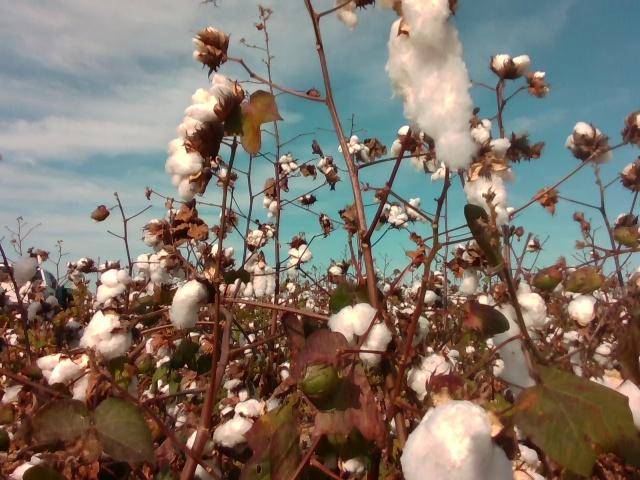cotton_ready: (387, 0, 477, 170), (401, 400, 514, 480), (486, 282, 546, 390), (467, 122, 513, 229), (329, 304, 391, 367), (176, 87, 228, 153), (37, 352, 94, 402), (167, 137, 210, 200), (79, 310, 131, 358), (211, 400, 264, 446), (564, 121, 615, 166), (405, 353, 457, 395), (170, 279, 211, 331), (210, 71, 247, 116), (188, 428, 221, 478), (192, 27, 228, 66), (396, 308, 432, 346), (456, 242, 479, 295), (410, 272, 447, 304), (98, 269, 131, 304), (137, 249, 171, 281), (150, 255, 183, 285), (568, 293, 598, 325), (335, 0, 362, 34), (338, 452, 369, 480), (493, 55, 532, 77), (530, 71, 551, 99)
